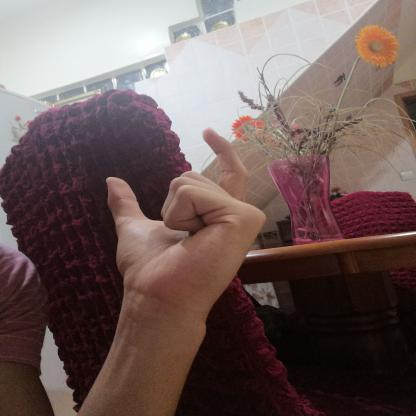NOON: (84, 118, 280, 332)
